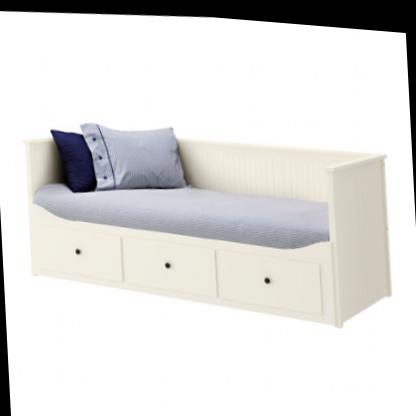Bed: (18, 97, 396, 345)
